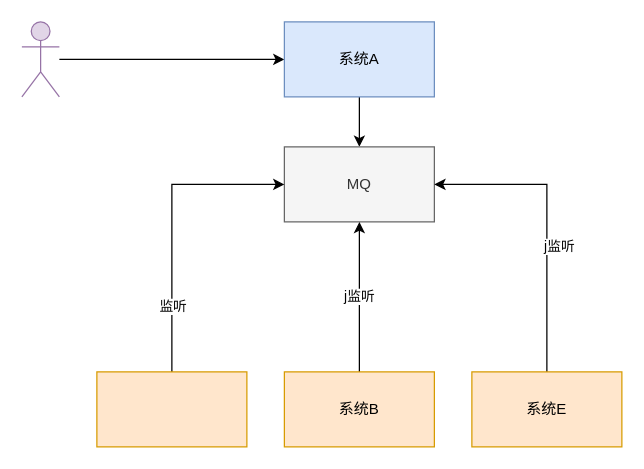
The diagram is 644 pixels wide and 469 high, and some of its shapes have lost their labels. The centre of each missing label's shape, as x and y in pixels:
"Actor" belongs at point 40,59.
"系统C" belongs at point 171,409.
